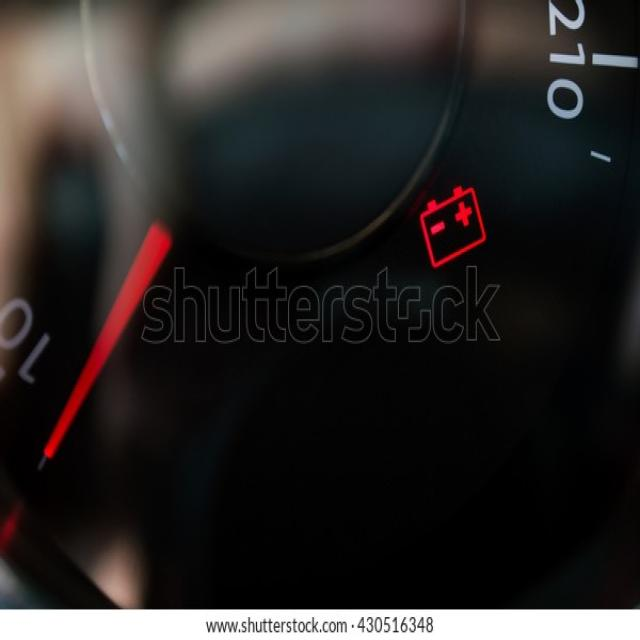Charging System Issue: (417, 182, 489, 270)
